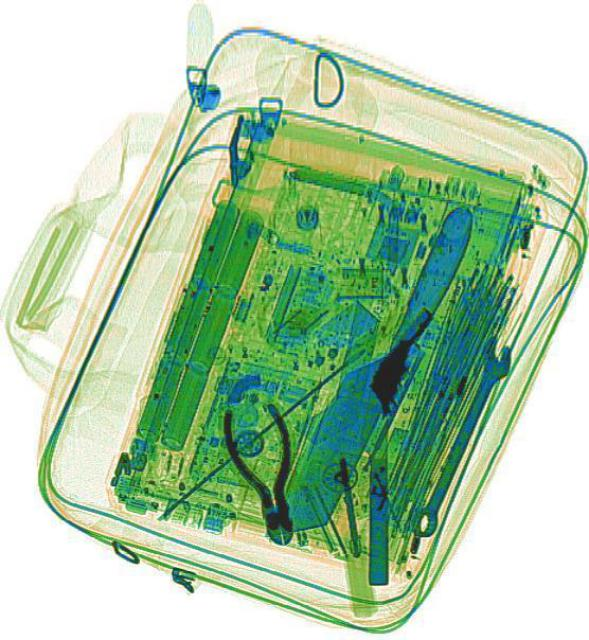Knife: (260, 177, 479, 543), (326, 296, 396, 584)
Pliers: (217, 398, 312, 550)
Wrench: (400, 329, 520, 541)
